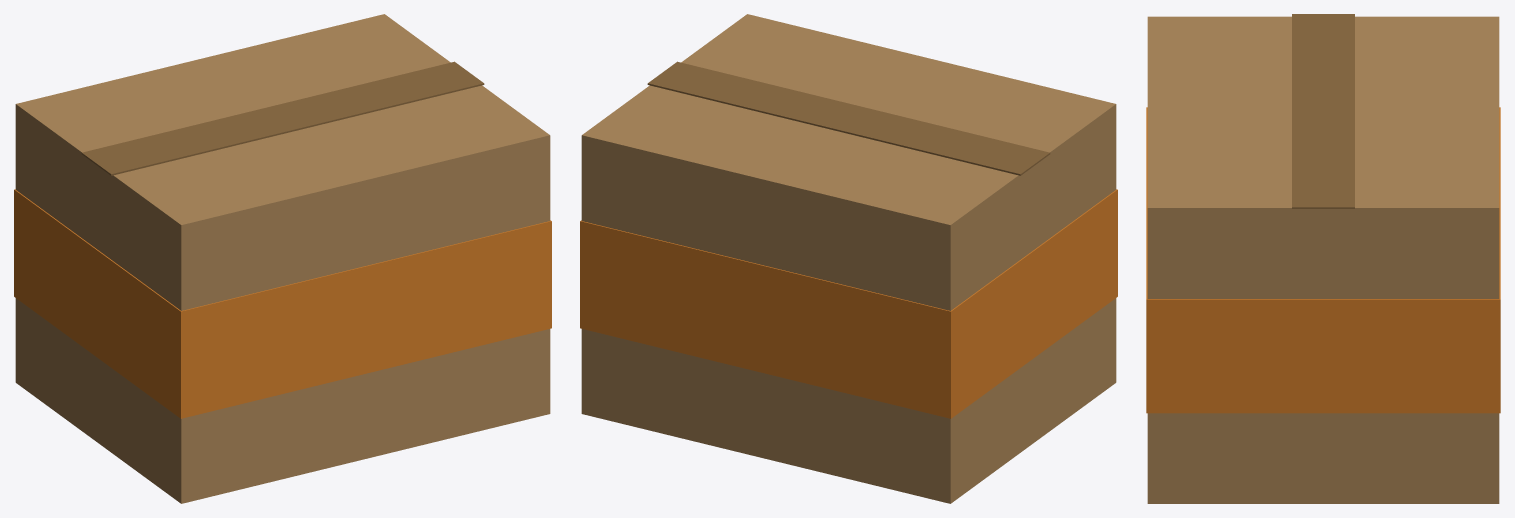
Rendered from product_case.glb.
The picture shows the model from 3 angles, left to right: view 1: azimuth 30°, elevation 25°; view 2: azimuth 150°, elevation 25°; view 3: azimuth 270°, elevation 25°; orthographic projection. The views are drawn at different scales.
Parts seen in each view (by area): view 1: cardboard, case_label, packing_tape; view 2: cardboard, case_label, packing_tape; view 3: cardboard, case_label, packing_tape.
Part boxes in pixels (left/top/right/bottom): cardboard: left=15, top=14, right=550, bottom=503; case_label: left=14, top=189, right=551, bottom=418; packing_tape: left=81, top=61, right=484, bottom=175; cardboard: left=581, top=14, right=1116, bottom=503; case_label: left=580, top=189, right=1117, bottom=418; packing_tape: left=647, top=61, right=1050, bottom=175; cardboard: left=1147, top=16, right=1499, bottom=503; case_label: left=1146, top=107, right=1500, bottom=413; packing_tape: left=1292, top=14, right=1354, bottom=208.
Size of the model in its own units: 0.364 by 0.2615 by 0.282.
